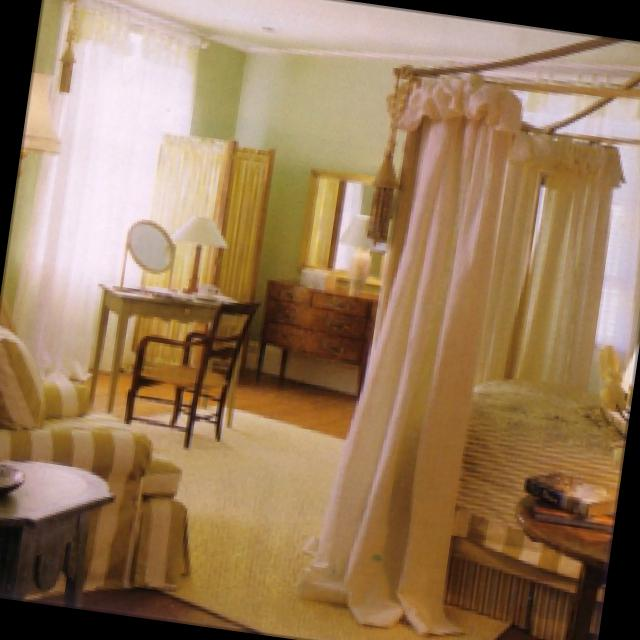armchair crop: (0, 324, 200, 595)
bed -occluded-: (379, 378, 627, 640)
book case: (521, 467, 614, 516)
ceiling beam: (133, 0, 640, 65)
chair -occluded-: (120, 301, 257, 446)
curtain crop: (299, 70, 625, 627), (13, 0, 196, 362), (506, 76, 640, 388)
dresser: (253, 276, 377, 401)
dressing screen: (124, 135, 271, 389)
lamp crop: (163, 211, 228, 290), (336, 214, 388, 290), (24, 70, 63, 152)
mirror crop: (297, 162, 396, 283), (121, 220, 172, 271)
rug -partially obscured-: (143, 402, 499, 640)
small plate: (0, 460, 21, 491)
small table part: (0, 458, 108, 602), (513, 492, 613, 640)
table -X: (85, 278, 253, 423)
